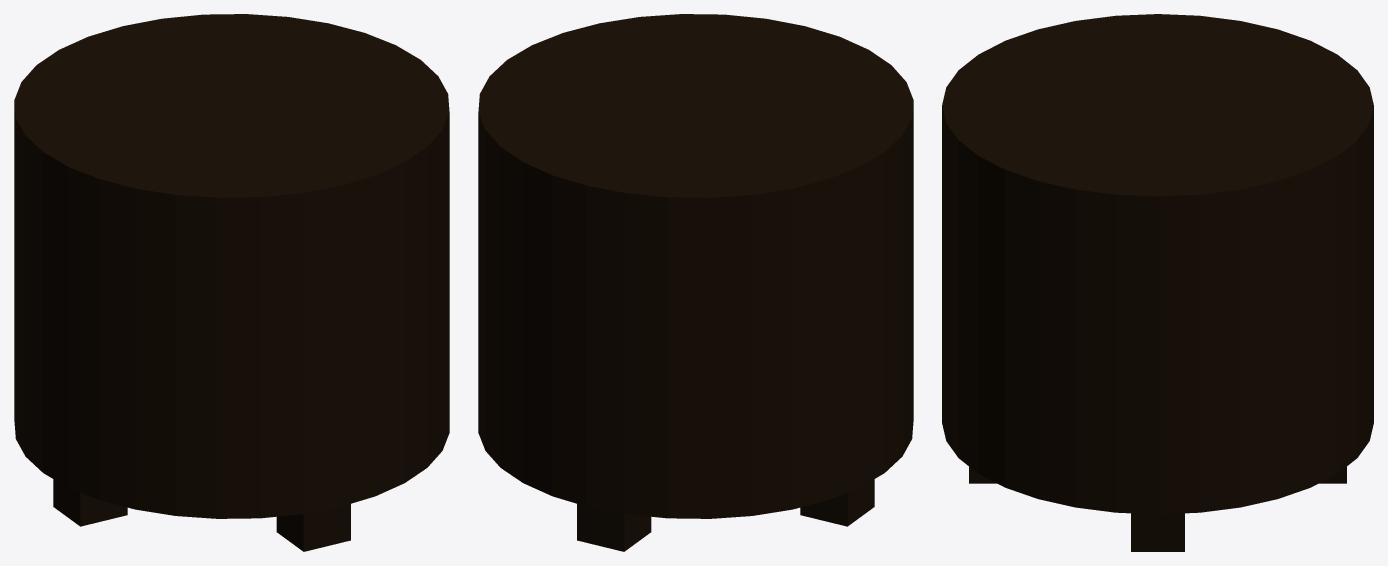
File: circle_chair.dae
3 views of the same model, side by side, from view 1: azimuth 30°, elevation 25°; view 2: azimuth 150°, elevation 25°; view 3: azimuth 270°, elevation 25° (orthographic).
Parts seen in each view (by area): view 1: obj1, obj2 (×2); view 2: obj1, obj2 (×2); view 3: obj1, obj2.
Boxes of the visible parts, <box> form: obj1: <box>14,14,449,518</box>; obj2 (×2): <box>53,479,350,551</box>; obj1: <box>478,14,913,518</box>; obj2 (×2): <box>577,479,874,551</box>; obj1: <box>942,14,1373,514</box>; obj2: <box>1131,513,1184,551</box>.
Bounding box in the file's own units: 16.08 × 16.08 × 15.07.
